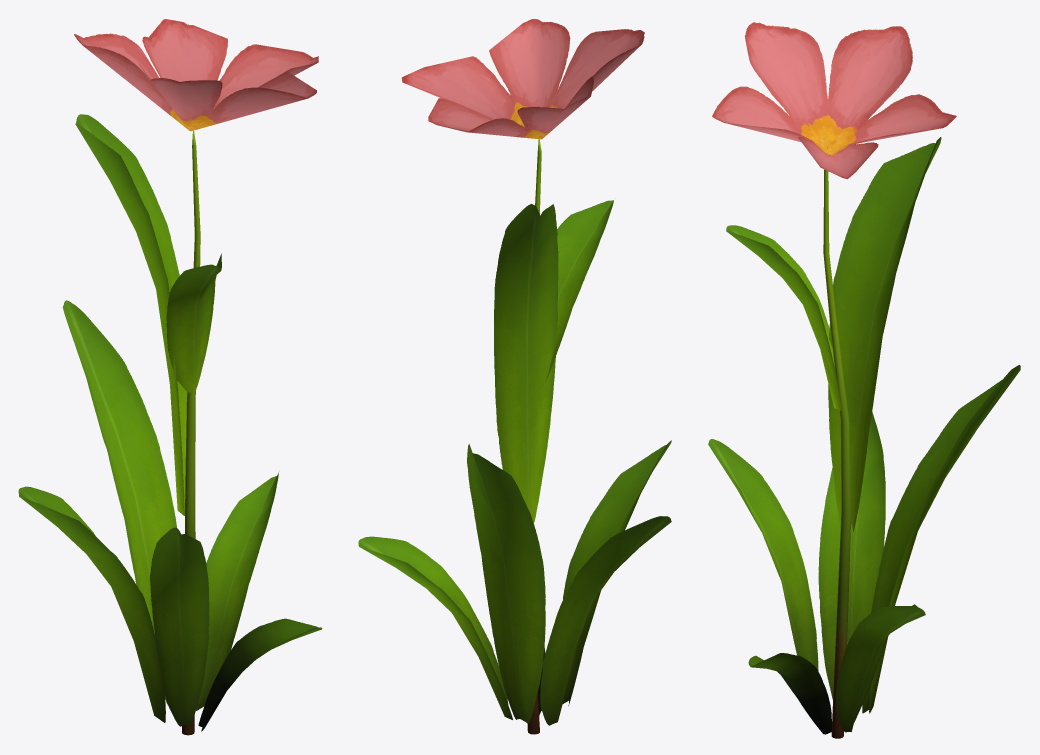
File: Flower_3_Single.gltf
3 renders of one model, left to right at view 1: azimuth 30°, elevation 25°; view 2: azimuth 150°, elevation 25°; view 3: azimuth 270°, elevation 25°, orthographic. The views are drawn at different scales.
Parts seen in each view (by area): view 1: Flower_3_Single; view 2: Flower_3_Single; view 3: Flower_3_Single.
Part boxes in pixels (x1,y1,x2,y2): Flower_3_Single: (18,19,322,735); Flower_3_Single: (358,18,671,734); Flower_3_Single: (708,22,1020,738).
Bounding box in the file's own units: 0.9066 × 2.07 × 0.8775.
2 materials, 2 textured.
